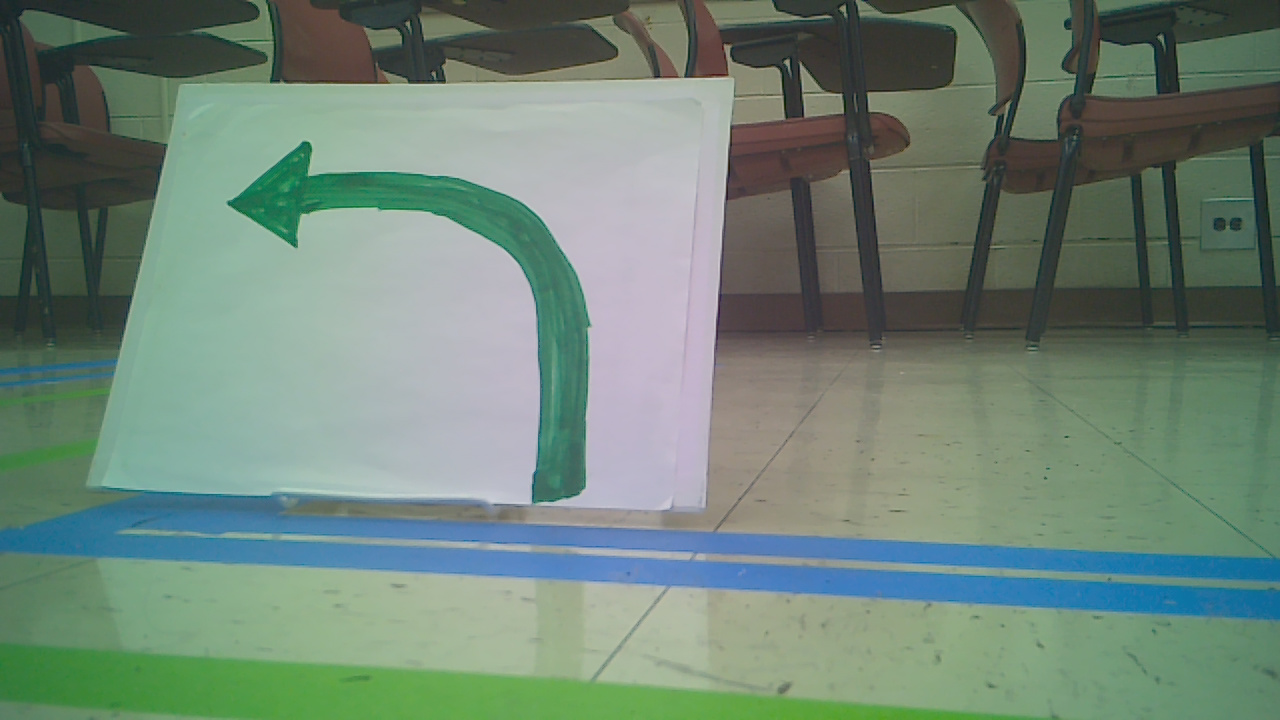left: (230, 139, 583, 506)
